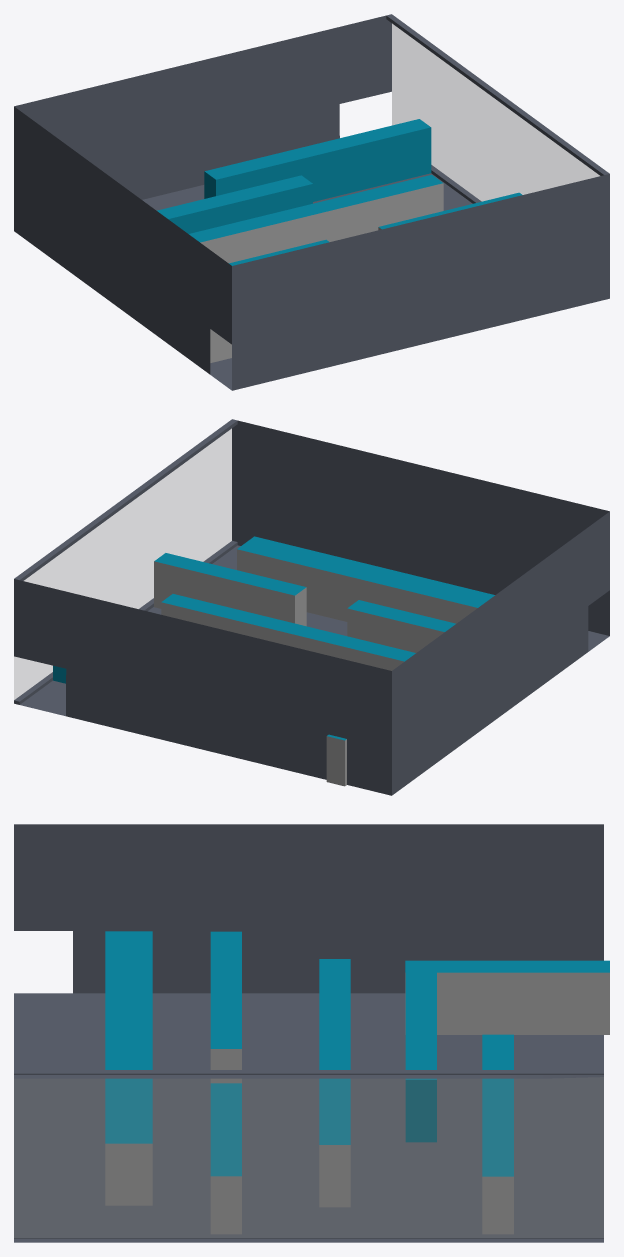
Rendered from Maze.fbx.
The picture shows the model from 3 angles, top to bottom: view 1: azimuth 30°, elevation 25°; view 2: azimuth 150°, elevation 25°; view 3: azimuth 270°, elevation 25°; orthographic projection. The views are drawn at different scales.
Visible parts, largest first — view 1: Room, Wall7, Wall4, Wall5, Wall2, Wall1; view 2: Room, Wall1, Wall2, Wall4, Wall3, Wall6; view 3: Room, Wall6, Wall1, Wall4, Wall7, Wall5, Wall2, Wall3.
Part boxes in pixels (x1,y1,x2,y2): Room: (14,14,609,390); Wall7: (204,119,431,201); Wall4: (189,174,443,263); Wall5: (157,175,312,233); Wall2: (378,192,522,230); Wall1: (210,329,231,362); Room: (14,419,609,795); Wall1: (237,536,494,623); Wall2: (154,553,306,626); Wall4: (161,594,415,670); Wall3: (347,600,455,652); Wall6: (326,734,346,786); Room: (14,824,603,1242); Wall6: (405,960,609,1034); Wall1: (105,931,152,1205); Wall4: (319,959,350,1207); Wall7: (482,1034,513,1234); Wall5: (405,962,436,1142); Wall2: (210,1083,241,1234); Wall3: (210,931,241,1083).
Bounding box in the file's own units: 75.93 × 23.97 × 76.68.
